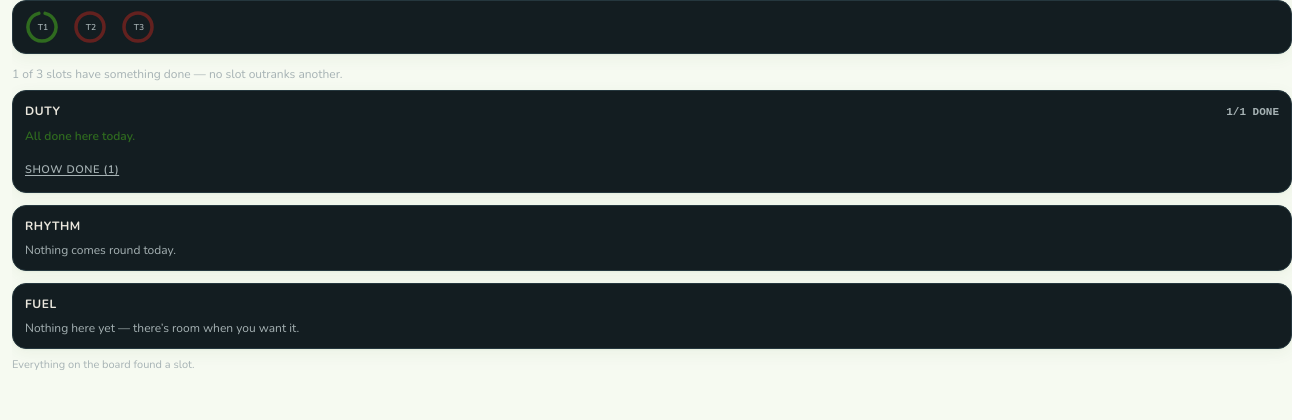
Test: SlotBoard — a settled completion lives behind the done drill › hides it behind Show done, and reveals it on tap
Click the button with test id "board-show-done-duty" at x=72, y=170, box [25,162,119,178]
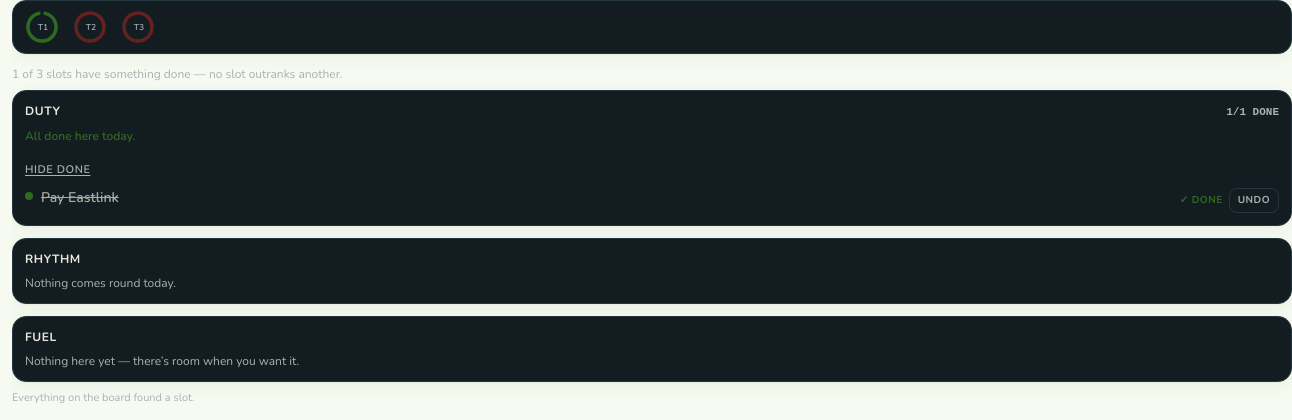
expect the list with test id "board-done-duty" shows "Pay Eastlink": met, box [25,188,1172,208]
